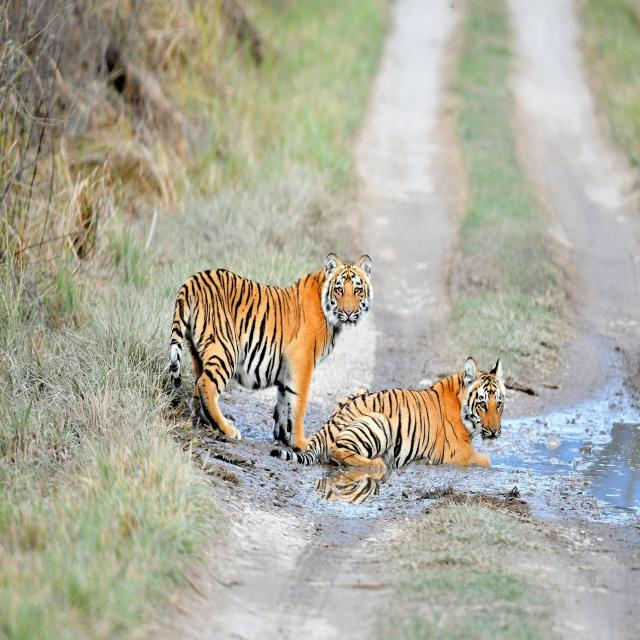Tiger: (168, 252, 372, 452), (272, 355, 505, 473)
